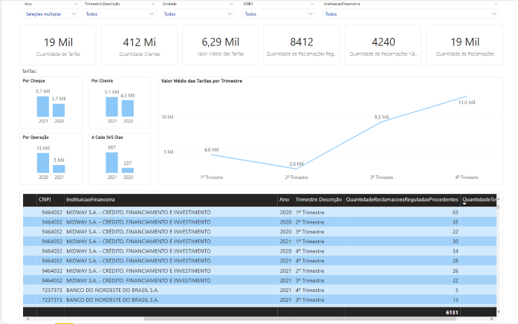

What the dashboard file says about the page in this screenshot:
{"tool":"powerbi","page":{"name":"Ingestão T5","canvas":[1280,800],"ordinal":0},"visuals":[{"type":"card","fields":{"Values":["Medidas.Quantidade de Reclamações"]},"box":[1051.4,62.6,189.9,99.9],"z":0,"group":"g1"},{"type":"tableEx","fields":{"Values":["dimInstituicoes.Tipo","dimInstituicoes.Categoria","dimInstituicoes.CNPJ","dimInstituicoes.InstituicaoFinanceira","dimCalendario.Ano","dimCalendario.Trimestre Descrição","Sum(fatoReclamacoes.QuantidadeReclamacoesReguladasProcedentes)","Sum(fatoReclamacoes.QuantidadeTotalClientesCCSSCR)"]},"box":[44.2,473,1196.5,327.4],"z":0},{"type":"group","id":"g1","title":"Grupo 1","box":[44.2,62.5,1197.1,100.1],"z":1000},{"type":"card","fields":{"Values":["Medidas.Valor Médio das Tarifas"]},"box":[447.5,62.6,188.2,99.8],"z":1000,"group":"g1"},{"type":"card","fields":{"Values":["Medidas.Quantidade de Reclamações Não Reguladas"]},"box":[849.6,62.6,189.9,99.8],"z":1006,"group":"g1"},{"type":"slicer","fields":{"Values":["dimCalendario.Ano"]},"box":[44,0,155.9,69.9],"z":2000},{"type":"card","fields":{"Values":["Medidas.Quantidade de Tarifas"]},"box":[44.2,62.5,189.7,100.1],"z":2000,"group":"g1"},{"type":"slicer","fields":{"Values":["dimCalendario.Trimestre Descrição"]},"box":[192.6,0,200,70],"z":3000},{"type":"card","fields":{"Values":["Medidas.Quantidade Clientes"]},"box":[245.8,62.5,189.7,100.1],"z":3000,"group":"g1"},{"type":"slicer","fields":{"Values":["dimServicos.Unidade"]},"box":[385.7,0,200,70],"z":4000},{"type":"card","fields":{"Values":["Medidas.Quantidade de Reclamações Reguladas - Outras"]},"box":[647.7,62.6,189.9,99.8],"z":4000,"group":"g1"},{"type":"slicer","fields":{"Values":["dimInstituicoes.CNPJ"]},"box":[585.5,0,199.8,70],"z":5000},{"type":"slicer","fields":{"Values":["dimInstituicoes.InstituicaoFinanceira"]},"box":[785.4,0,455.6,69.9],"z":6000},{"type":"textbox","box":[45,161.9,115.9,30],"z":7000},{"type":"clusteredColumnChart","title":"Por Cheque","fields":{"Category":["dimCalendario.Ano"],"Y":["Medidas.Por Cheque"]},"box":[44.3,191.6,155,128],"z":8000},{"type":"lineChart","title":"Valor Médio das Tarifas por Trimestre","fields":{"Category":["dimCalendario.Trimestre Descrição"],"Y":["Medidas.Valor Médio das Tarifas"]},"box":[386.3,191.5,854.4,266.8],"z":9000},{"type":"clusteredColumnChart","title":"Por Cliente","fields":{"Category":["dimCalendario.Ano"],"Y":["Medidas.Por Cliente"]},"box":[214.4,191.5,155.5,127.7],"z":10000},{"type":"clusteredColumnChart","title":"Por Operação","fields":{"Category":["dimCalendario.Ano"],"Y":["Medidas.Por Operação"]},"box":[44.2,330.6,155.5,127.7],"z":11000},{"type":"clusteredColumnChart","title":"A Cada 365 Dias","fields":{"Category":["dimCalendario.Ano"],"Y":["Medidas.A Cada 365 Dias"]},"box":[214.4,330.6,155.5,127.7],"z":12000}]}

Visuals, with their boxes in screenshot pixels (x1, y1, x2, y2), scaled from the page's 1280x800 canvas onto the 518x324 screenshot:
card - Medidas.Quantidade de Reclamações: select_region(425, 25, 502, 66)
tableEx - dimInstituicoes.Tipo x dimInstituicoes.Categoria: select_region(18, 192, 502, 323)
"Grupo 1" group: select_region(18, 25, 502, 66)
card - Medidas.Valor Médio das Tarifas: select_region(181, 25, 257, 66)
card - Medidas.Quantidade de Reclamações Não Reguladas: select_region(344, 25, 421, 66)
slicer - dimCalendario.Ano: select_region(18, 0, 81, 28)
card - Medidas.Quantidade de Tarifas: select_region(18, 25, 95, 66)
slicer - dimCalendario.Trimestre Descrição: select_region(78, 0, 159, 28)
card - Medidas.Quantidade Clientes: select_region(99, 25, 176, 66)
slicer - dimServicos.Unidade: select_region(156, 0, 237, 28)
card - Medidas.Quantidade de Reclamações Reguladas - Outras: select_region(262, 25, 339, 66)
slicer - dimInstituicoes.CNPJ: select_region(237, 0, 318, 28)
slicer - dimInstituicoes.InstituicaoFinanceira: select_region(318, 0, 502, 28)
textbox: select_region(18, 66, 65, 78)
"Por Cheque" clusteredColumnChart: select_region(18, 78, 81, 129)
"Valor Médio das Tarifas por Trimestre" lineChart: select_region(156, 78, 502, 186)
"Por Cliente" clusteredColumnChart: select_region(87, 78, 150, 129)
"Por Operação" clusteredColumnChart: select_region(18, 134, 81, 186)
"A Cada 365 Dias" clusteredColumnChart: select_region(87, 134, 150, 186)
